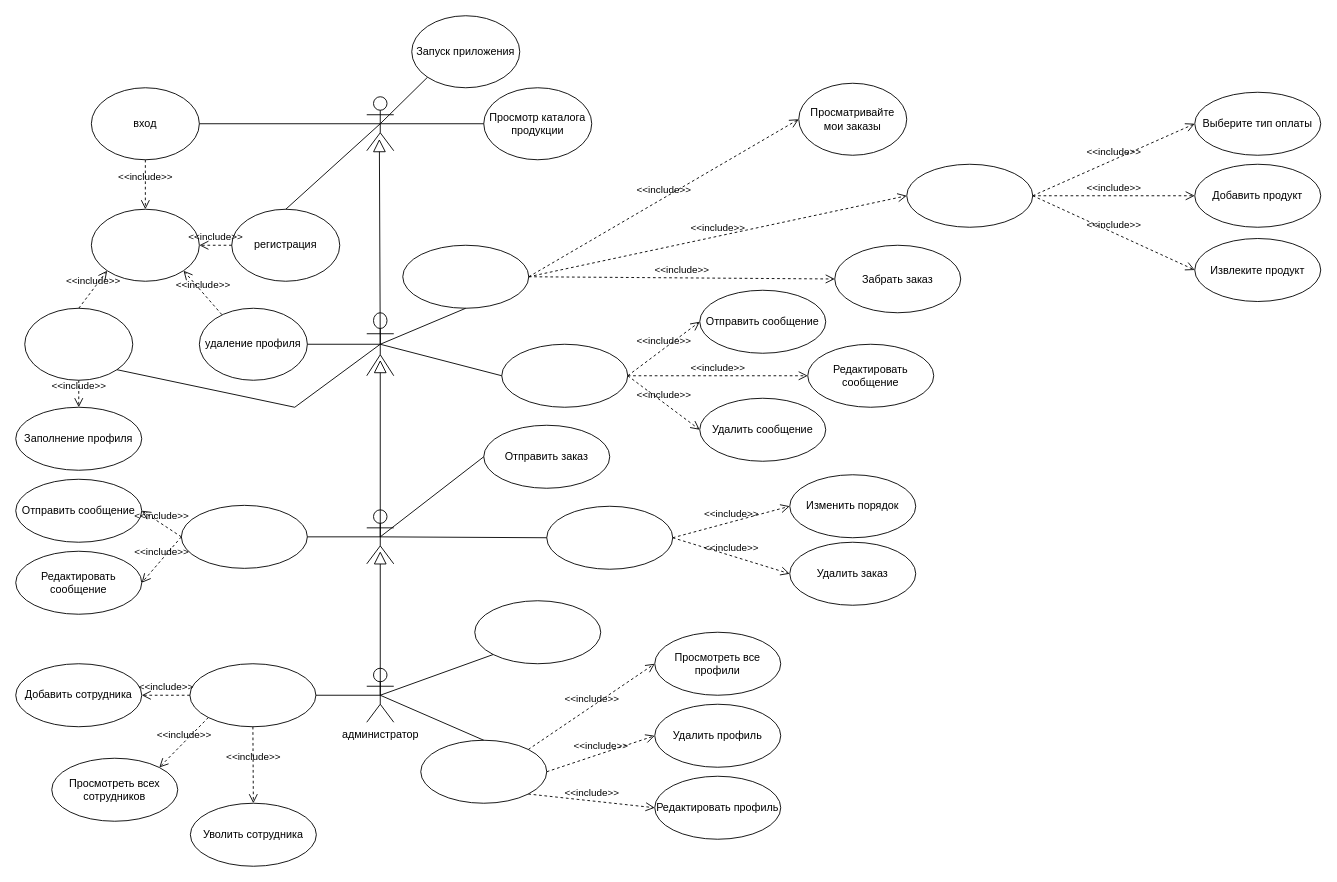
This 1337x882 diagram has some shape labels left out. The shapes that lost their labels are listed below. From the top down, each one's box as (x1, y1, x2, y2) in pixels, then its label:
(366, 96, 394, 151): пользователь
(906, 163, 1033, 227): Сделайте заказ
(90, 208, 199, 281): Номер телефона для подтверждения
(402, 244, 529, 308): Работаю с моими заказами
(24, 307, 133, 380): редактирование профиля
(366, 312, 394, 376): авторизованый пользователь
(501, 343, 628, 407): Связь с технической поддержкой
(180, 504, 307, 568): Общение с покупателем
(366, 509, 394, 564): менеджер
(546, 505, 673, 569): Работа с заказами
(474, 600, 601, 664): история заказов
(189, 663, 316, 727): Работа с сотрудниками
(420, 739, 547, 803): Работа с профилем
